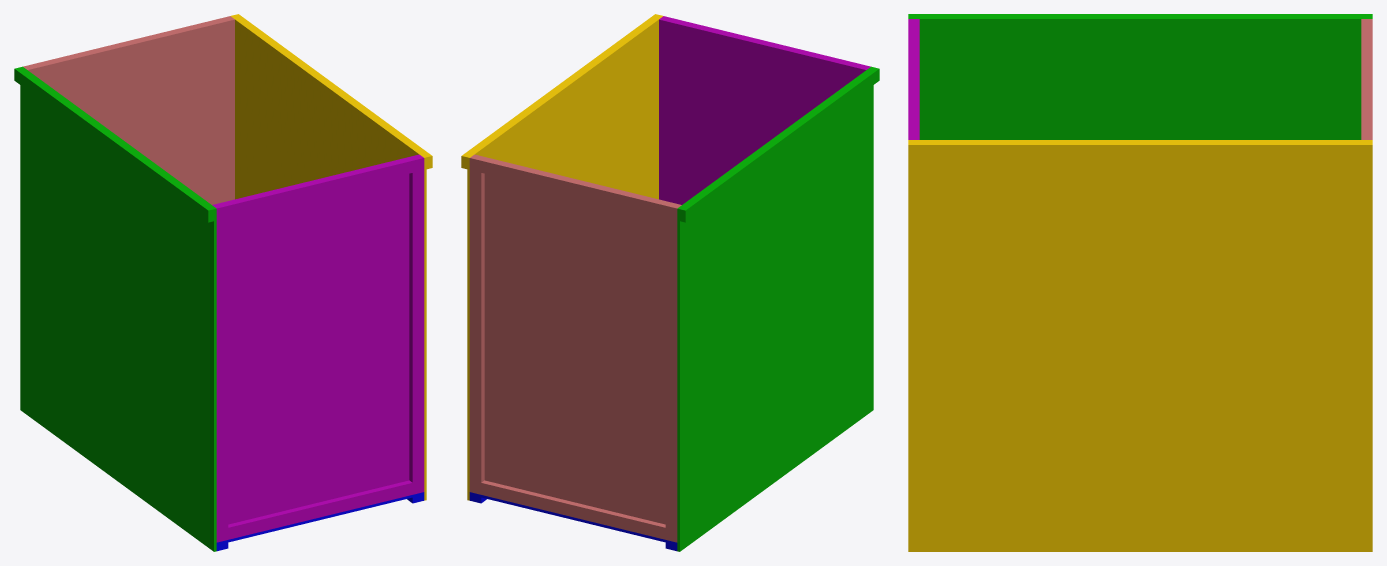
Rendered from result.glb.
3 views of the same model, side by side, from view 1: azimuth 30°, elevation 25°; view 2: azimuth 150°, elevation 25°; view 3: azimuth 270°, elevation 25° (orthographic). The views are drawn at different scales.
Parts seen in each view (by area): view 1: 5a244a8d-bd8f-4de8-85b7-cce7c1719c61__Box_6, ea3eb50e-5dba-448b-b9b0-5ce5c472977e__Box_3, 49f0cd9f-f844-4aff-a341-a0222d23d696__undefined, f40f9923-1817-4853-b5c5-c64894c72dea__undefined, e7c9cf1b-de19-4093-b1f6-462f9c3d40ee__undefined, 2fcc9c1b-1dbd-4079-a918-603aa6e06fbc__Box_4, 7fc5ee32-52b8-4a1e-9362-586635dc34a0__Box_7, 7e740ed9-9ff0-4a6a-93b6-1c1fd94c22d4__undefined, 83915019-a100-40a9-a7f2-6c2bdf61ed4e__Box_5, 8e65195a-0659-4b2f-ab4f-8019ad927e70__undefined, 455d918b-e0d0-4b84-8c26-d4c841d441b5__undefined, aabc8b5e-ff33-49f9-946e-e13f739b5e8e__Box; view 2: 5a244a8d-bd8f-4de8-85b7-cce7c1719c61__Box_6, 49f0cd9f-f844-4aff-a341-a0222d23d696__undefined, ea3eb50e-5dba-448b-b9b0-5ce5c472977e__Box_3, f40f9923-1817-4853-b5c5-c64894c72dea__undefined, ade7d900-18ca-4481-b6eb-bd71c3bd9a01__undefined, 35a125a0-6b4b-404c-902f-d82d66f95bf8__undefined, 7fc5ee32-52b8-4a1e-9362-586635dc34a0__Box_7, 455d918b-e0d0-4b84-8c26-d4c841d441b5__undefined, a05a6787-7e5d-415a-9bfd-ea27be9dc75a__undefined, 8e65195a-0659-4b2f-ab4f-8019ad927e70__undefined, 7e740ed9-9ff0-4a6a-93b6-1c1fd94c22d4__undefined, aabc8b5e-ff33-49f9-946e-e13f739b5e8e__Box; view 3: f40f9923-1817-4853-b5c5-c64894c72dea__undefined, 5a244a8d-bd8f-4de8-85b7-cce7c1719c61__Box_6, 8e65195a-0659-4b2f-ab4f-8019ad927e70__undefined, 7fc5ee32-52b8-4a1e-9362-586635dc34a0__Box_7, 7e740ed9-9ff0-4a6a-93b6-1c1fd94c22d4__undefined, 455d918b-e0d0-4b84-8c26-d4c841d441b5__undefined.
Part boxes in pixels (x1=…): 5a244a8d-bd8f-4de8-85b7-cce7c1719c61__Box_6: x1=20, y1=66, x2=216, y2=551; ea3eb50e-5dba-448b-b9b0-5ce5c472977e__Box_3: x1=212, y1=154, x2=420, y2=524; 49f0cd9f-f844-4aff-a341-a0222d23d696__undefined: x1=26, y1=18, x2=234, y2=204; f40f9923-1817-4853-b5c5-c64894c72dea__undefined: x1=230, y1=15, x2=426, y2=500; e7c9cf1b-de19-4093-b1f6-462f9c3d40ee__undefined: x1=409, y1=155, x2=424, y2=494; 2fcc9c1b-1dbd-4079-a918-603aa6e06fbc__Box_4: x1=213, y1=203, x2=228, y2=542; 7fc5ee32-52b8-4a1e-9362-586635dc34a0__Box_7: x1=14, y1=67, x2=213, y2=222; 7e740ed9-9ff0-4a6a-93b6-1c1fd94c22d4__undefined: x1=225, y1=158, x2=412, y2=217; 83915019-a100-40a9-a7f2-6c2bdf61ed4e__Box_5: x1=228, y1=480, x2=412, y2=539; 8e65195a-0659-4b2f-ab4f-8019ad927e70__undefined: x1=233, y1=14, x2=432, y2=169; 455d918b-e0d0-4b84-8c26-d4c841d441b5__undefined: x1=34, y1=19, x2=221, y2=66; aabc8b5e-ff33-49f9-946e-e13f739b5e8e__Box: x1=216, y1=492, x2=424, y2=545; 5a244a8d-bd8f-4de8-85b7-cce7c1719c61__Box_6: x1=677, y1=66, x2=873, y2=551; 49f0cd9f-f844-4aff-a341-a0222d23d696__undefined: x1=473, y1=154, x2=681, y2=524; ea3eb50e-5dba-448b-b9b0-5ce5c472977e__Box_3: x1=659, y1=18, x2=867, y2=204; f40f9923-1817-4853-b5c5-c64894c72dea__undefined: x1=467, y1=15, x2=663, y2=500; ade7d900-18ca-4481-b6eb-bd71c3bd9a01__undefined: x1=469, y1=155, x2=484, y2=494; 35a125a0-6b4b-404c-902f-d82d66f95bf8__undefined: x1=665, y1=203, x2=680, y2=542; 7fc5ee32-52b8-4a1e-9362-586635dc34a0__Box_7: x1=680, y1=67, x2=879, y2=222; 455d918b-e0d0-4b84-8c26-d4c841d441b5__undefined: x1=481, y1=158, x2=668, y2=217; a05a6787-7e5d-415a-9bfd-ea27be9dc75a__undefined: x1=481, y1=480, x2=665, y2=539; 8e65195a-0659-4b2f-ab4f-8019ad927e70__undefined: x1=461, y1=14, x2=660, y2=169; 7e740ed9-9ff0-4a6a-93b6-1c1fd94c22d4__undefined: x1=672, y1=19, x2=859, y2=66; aabc8b5e-ff33-49f9-946e-e13f739b5e8e__Box: x1=469, y1=492, x2=677, y2=545; f40f9923-1817-4853-b5c5-c64894c72dea__undefined: x1=908, y1=140, x2=1372, y2=551; 5a244a8d-bd8f-4de8-85b7-cce7c1719c61__Box_6: x1=908, y1=17, x2=1372, y2=139; 8e65195a-0659-4b2f-ab4f-8019ad927e70__undefined: x1=908, y1=141, x2=1372, y2=159; 7fc5ee32-52b8-4a1e-9362-586635dc34a0__Box_7: x1=908, y1=14, x2=1372, y2=17; 7e740ed9-9ff0-4a6a-93b6-1c1fd94c22d4__undefined: x1=908, y1=25, x2=916, y2=133; 455d918b-e0d0-4b84-8c26-d4c841d441b5__undefined: x1=1364, y1=25, x2=1372, y2=133.
Size of the model in its own units: 702 by 1026 by 1052.
